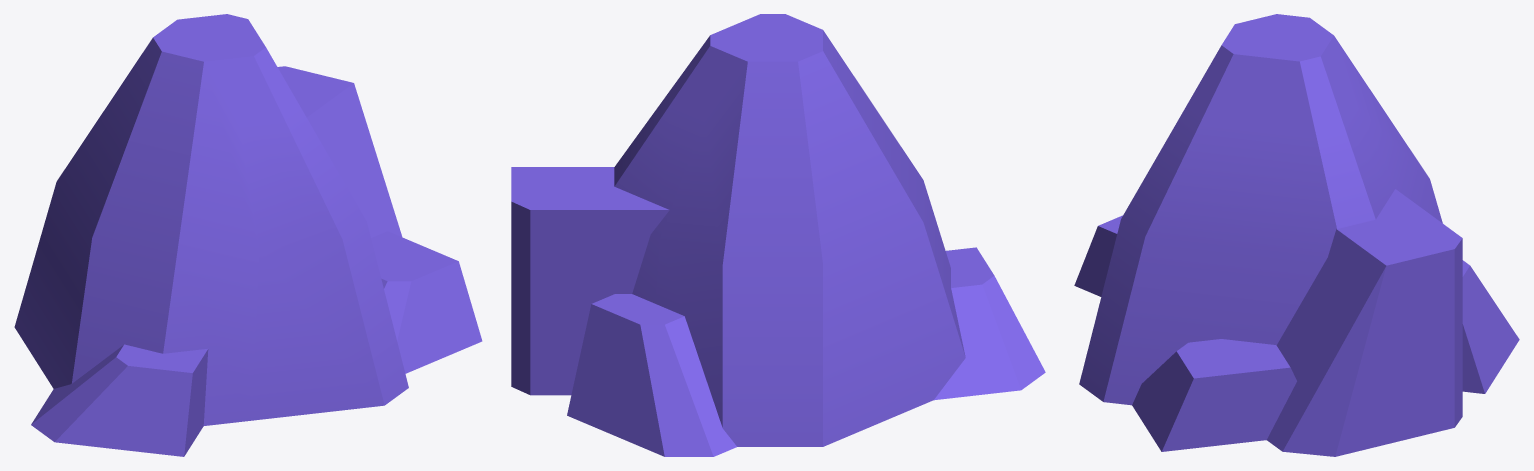
The model's file is rock_small.fbx.
The picture shows the model from 3 angles, left to right: view 1: azimuth 30°, elevation 25°; view 2: azimuth 150°, elevation 25°; view 3: azimuth 270°, elevation 25°; orthographic projection. The views are drawn at different scales.
Parts seen in each view (by area): view 1: mergedBlocks; view 2: mergedBlocks; view 3: mergedBlocks.
Part boxes in pixels (left/top/right/bottom): mergedBlocks: left=14, top=14, right=482, bottom=456; mergedBlocks: left=511, top=14, right=1045, bottom=456; mergedBlocks: left=1074, top=14, right=1519, bottom=456.
Size of the model in its own units: 14.59 by 10 by 13.01.
